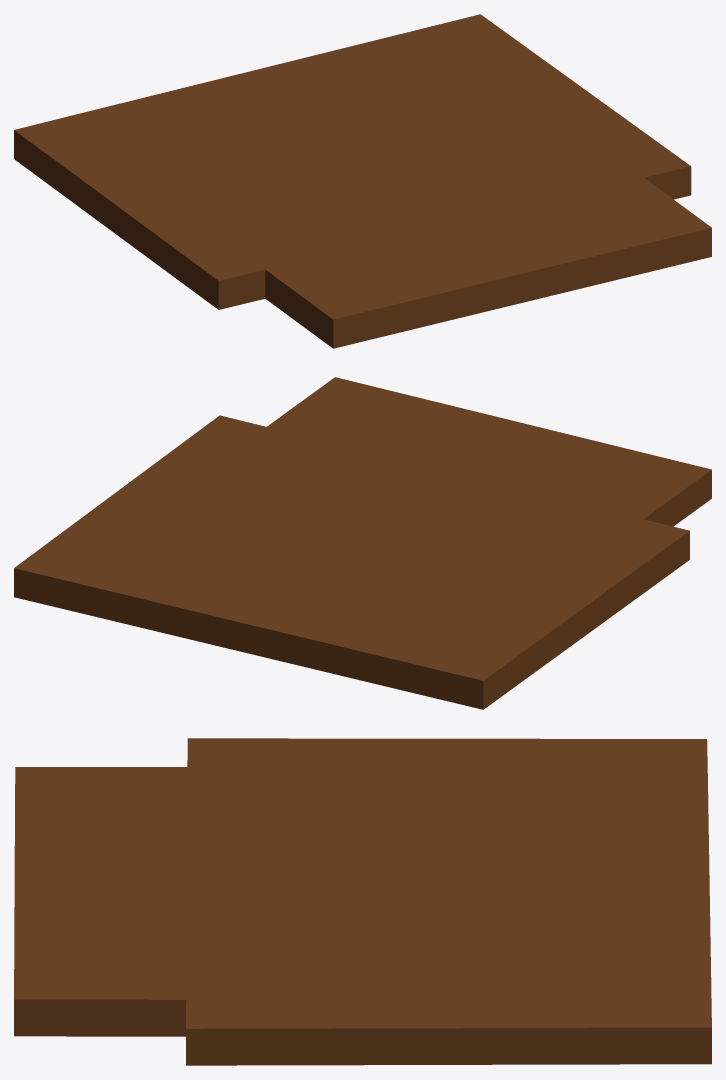
File: suelo1.fbx
The picture shows the model from 3 angles, top to bottom: view 1: azimuth 30°, elevation 25°; view 2: azimuth 150°, elevation 25°; view 3: azimuth 270°, elevation 25°; orthographic projection. The views are drawn at different scales.
Visible parts, largest first — view 1: Cube; view 2: Cube; view 3: Cube.
Part boxes in pixels (bbox=[...]): Cube: bbox=[14, 14, 711, 348]; Cube: bbox=[14, 377, 711, 709]; Cube: bbox=[14, 738, 711, 1065].
Size of the model in its own units: 42.79 by 2.52 by 43.45.
